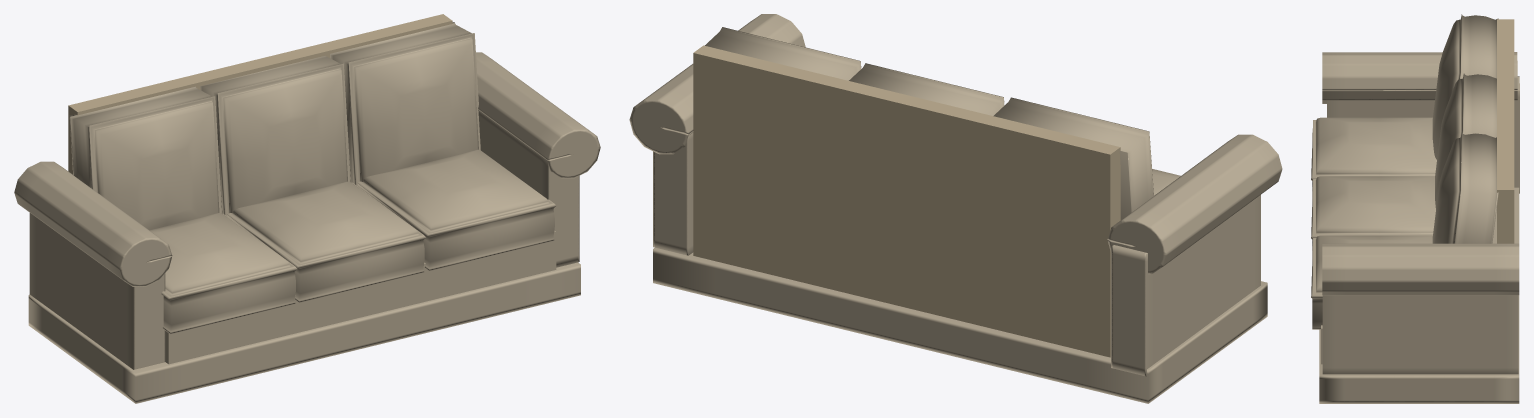
File: couch.fbx
3 views of the same model, side by side, from view 1: azimuth 30°, elevation 25°; view 2: azimuth 150°, elevation 25°; view 3: azimuth 270°, elevation 25° (orthographic). The views are drawn at different scales.
Parts seen in each view (by area): view 1: Box6, cushion4, cushion3, cushion5, cushion1, cushion, Box5, cushion2, Box4, Circle1, Circle, Box7 (+1 smaller); view 2: Box7, Box6, Box4, Circle1, cushion5, Circle, Box3, cushion4, cushion3; view 3: Box3, Circle, cushion, cushion2, Box6, cushion4, Circle1, Box7, cushion5, cushion3, Box4, cushion1.
Part boxes in pixels (x1,y1,x2,y2): Box6: (28, 262, 580, 403); cushion4: (330, 22, 480, 186); cushion3: (200, 56, 350, 216); cushion5: (69, 86, 222, 230); cushion1: (357, 149, 556, 271); cushion: (227, 181, 426, 302); Box5: (165, 231, 556, 364); cushion2: (150, 212, 297, 334); Box4: (29, 213, 165, 369); Circle1: (14, 161, 172, 286); Circle: (476, 52, 600, 178); Box7: (68, 14, 452, 174); Box7: (693, 45, 1120, 357); Box6: (653, 247, 1267, 403); Box4: (1111, 195, 1260, 376); Circle1: (1107, 134, 1282, 274); cushion5: (993, 97, 1153, 219); Circle: (629, 14, 805, 154); Box3: (653, 132, 693, 255); cushion4: (705, 27, 861, 80); cushion3: (849, 63, 1004, 115); Box3: (1322, 295, 1518, 374); Circle: (1322, 243, 1519, 295); cushion: (1311, 176, 1435, 250); cushion2: (1311, 117, 1436, 190); Box6: (1319, 187, 1519, 403); cushion4: (1432, 132, 1498, 243); Circle1: (1322, 52, 1517, 103); Box7: (1497, 19, 1514, 243); cushion5: (1432, 14, 1498, 159); cushion3: (1435, 73, 1496, 208); Box4: (1327, 76, 1519, 193); cushion1: (1311, 235, 1432, 329).
Size of the model in its own units: 3.85 by 1.64 by 1.55.
